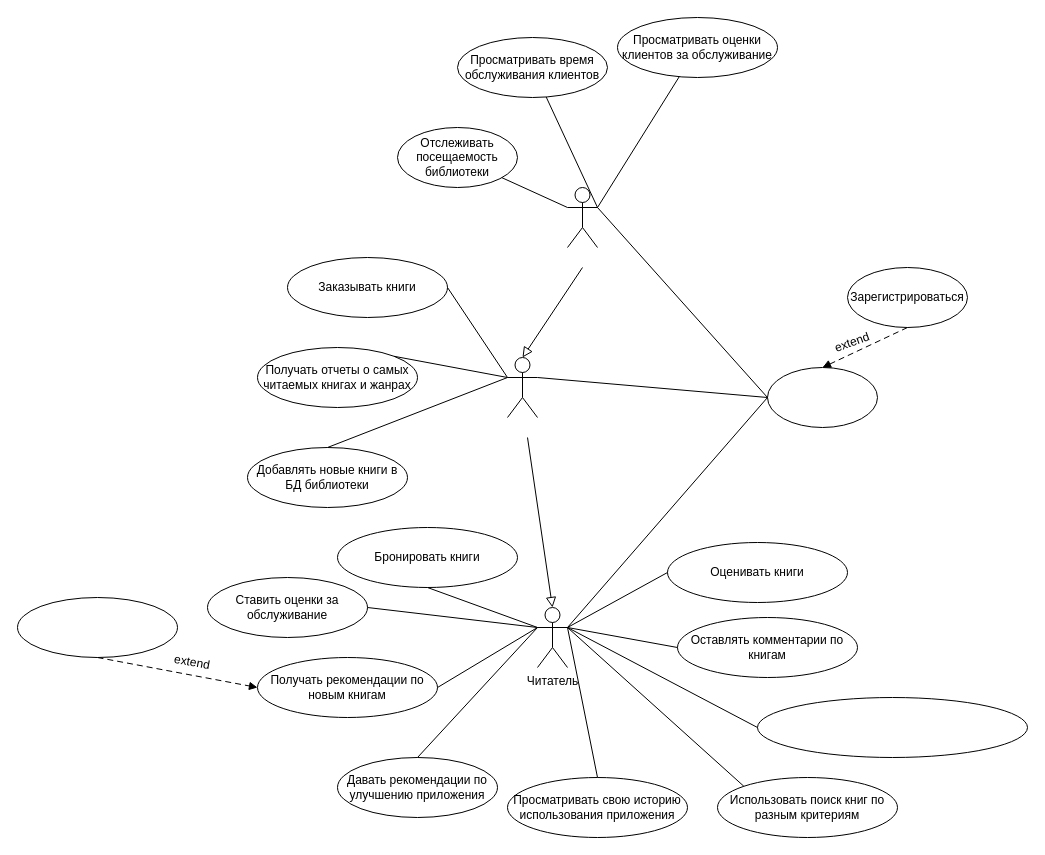
This 1045x855 diagram has some shape labels left out. The shapes that lost their labels are listed below. From the top down, each one's centre as x and y in pixels, then its label:
(582,217): Владелец
(522,387): Закупщик
(822,397): Войти в систему
(97,627): Проходить тесты для получения более точных рекомендаций
(892,727): Просматривать оценки и комментарии по книгам других пользователей
